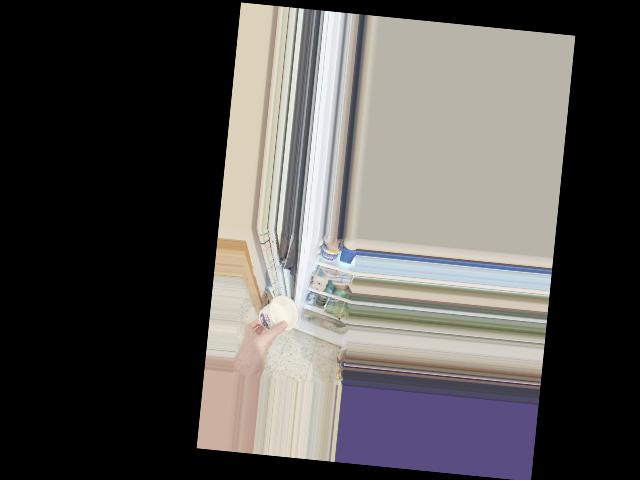cotage: (255, 293, 298, 334)
